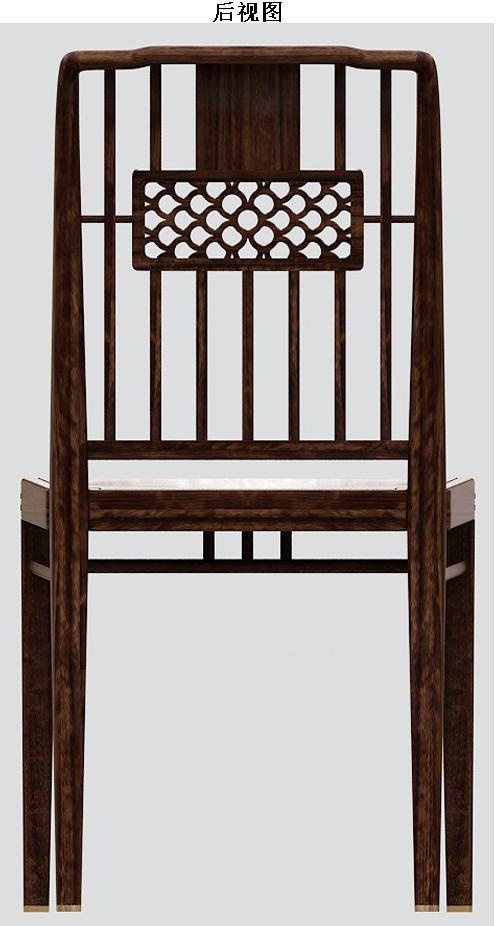obstacle: (22, 46, 473, 910)
